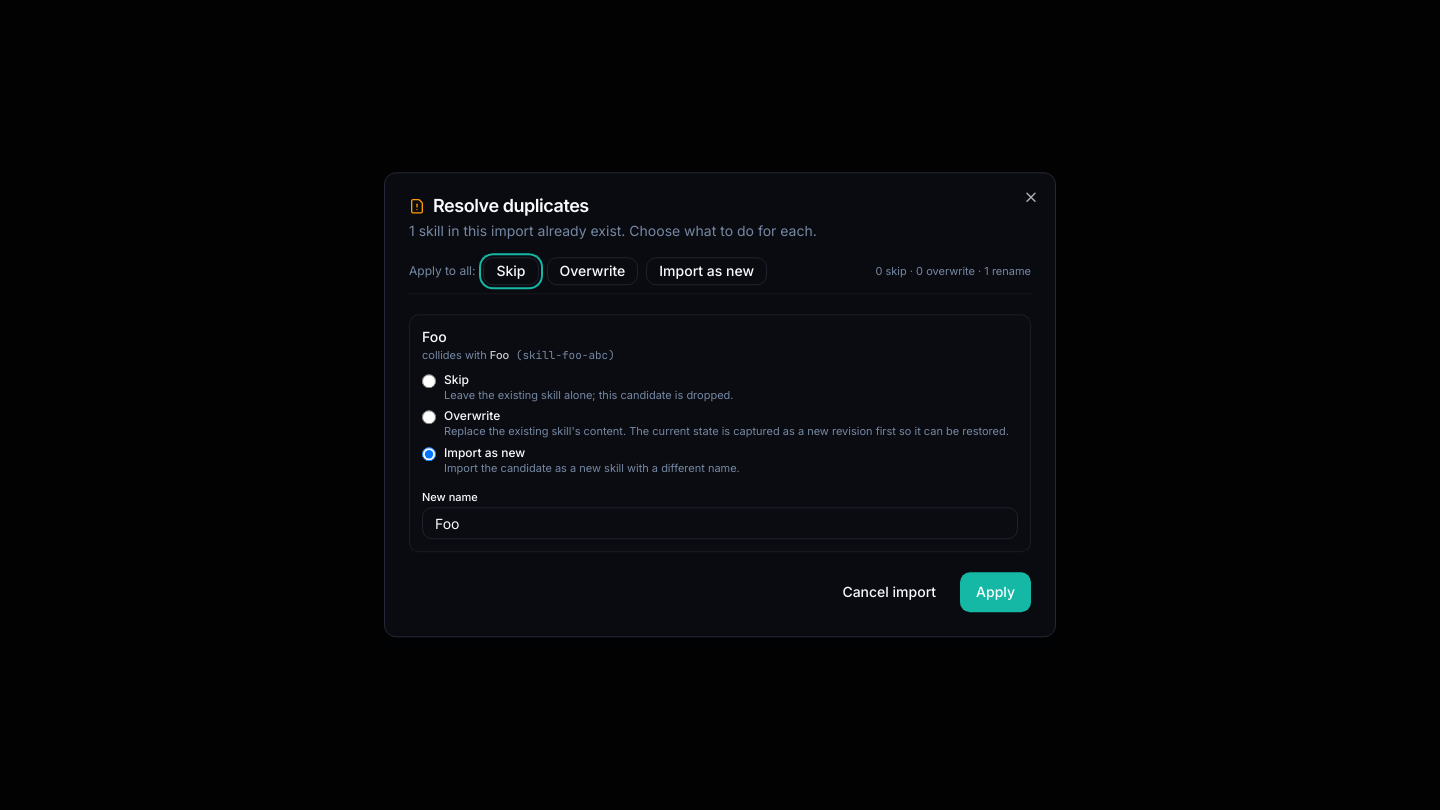
Test: ImportConflictDialog — Apply validation › blocks Apply when a Rename target matches the existing name
Click the button with test id "import-conflicts-apply". click: [996, 593]
box: [960, 573, 1031, 613]
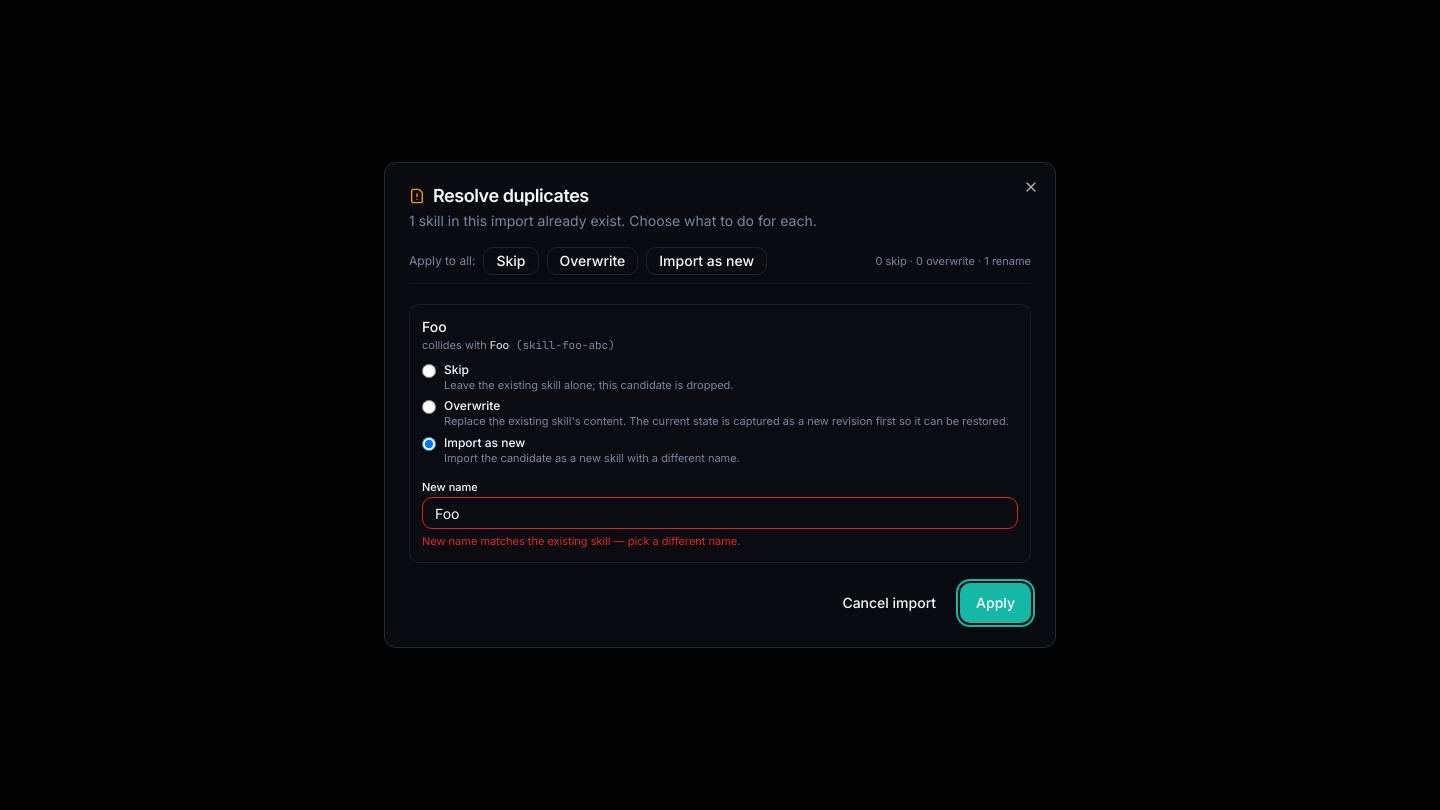
Now the text "New name matches the existing skill — pick a different name." is shown, box [422, 534, 740, 548]
